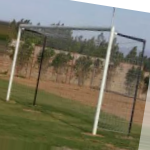goals: (5, 22, 146, 141)
